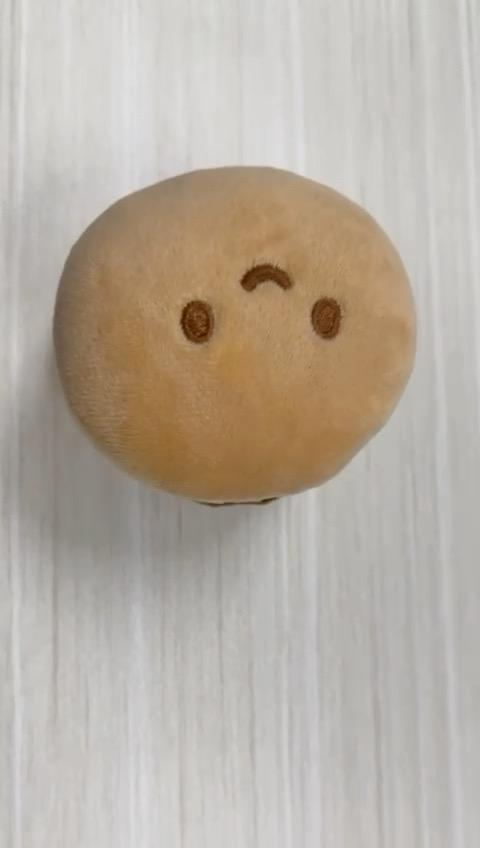hamburger: (54, 166, 421, 509)
